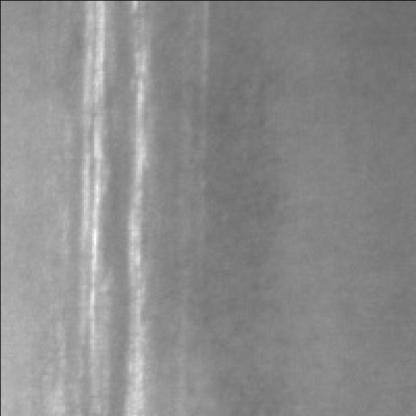scratches: (66, 0, 106, 410), (116, 46, 146, 410)
